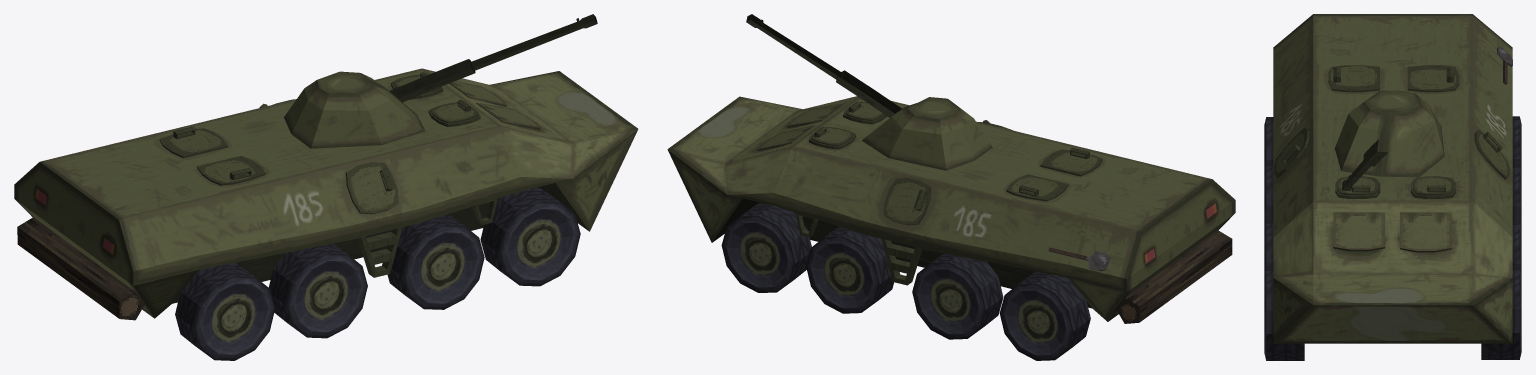
Rendered from BTR80.fbx.
The picture shows the model from 3 angles, left to right: view 1: azimuth 30°, elevation 25°; view 2: azimuth 150°, elevation 25°; view 3: azimuth 270°, elevation 25°; orthographic projection. The views are drawn at different scales.
Parts seen in each view (by area): view 1: Body, Turret, Wheel4_Right, Wheel1_Right, Wheel3_Right, Wheel2_Right, WoodLog, KPW_Barrel, WłazSmall_Right, WłazTop_Left, Ladder_Right, WłazTop_Right (+3 smaller); view 2: Body, Turret, Wheel4_Left, Wheel1Left, Wheel3_Left, Wheel2_Left, WoodLog, KPW_Barrel, WłazSmall_Left, WłazTop_Right, Ladder_Left, WłazTop_Left (+5 smaller); view 3: Body, Turret, WindowShield_Left, WindowShield_Right, Wheel1_Right, Wheel1Left, WłazTop_Left, WłazTop_Right, WłazSmall_Left, WłazSmall_Right, WladDriver_Left, KPW_Barrel (+10 smaller).
Boxes of the visible parts, box(x1,y1,x2,y2) form: Body: box(14, 68, 638, 318); Turret: box(284, 71, 425, 148); Wheel4_Right: box(175, 262, 275, 360); Wheel1_Right: box(480, 188, 580, 286); Wheel3_Right: box(268, 243, 367, 338); Wheel2_Right: box(387, 214, 484, 309); WoodLog: box(17, 217, 145, 320); KPW_Barrel: box(390, 14, 597, 102); WłazSmall_Right: box(346, 162, 398, 214); WłazTop_Left: box(159, 126, 227, 158); Ladder_Right: box(357, 227, 402, 277); WłazTop_Right: box(197, 155, 265, 185); Body: box(667, 96, 1235, 321); Turret: box(862, 97, 992, 170); Wheel4_Left: box(999, 271, 1090, 360); Wheel1Left: box(721, 203, 811, 292); Wheel3_Left: box(912, 253, 1003, 339); Wheel2_Left: box(806, 226, 893, 313); WoodLog: box(1116, 230, 1232, 323); KPW_Barrel: box(746, 14, 901, 117); WłazSmall_Left: box(883, 178, 931, 225); WłazTop_Right: box(1040, 148, 1102, 176); Ladder_Left: box(881, 239, 922, 285); WłazTop_Left: box(1006, 174, 1068, 201); Body: box(1273, 14, 1512, 343); Turret: box(1335, 90, 1444, 177); WindowShield_Left: box(1400, 212, 1451, 252); WindowShield_Right: box(1333, 212, 1384, 251); Wheel1_Right: box(1264, 267, 1304, 360); Wheel1Left: box(1481, 266, 1521, 359); WłazTop_Left: box(1407, 65, 1459, 92); WłazTop_Right: box(1328, 65, 1379, 92); WłazSmall_Left: box(1474, 130, 1509, 179); WłazSmall_Right: box(1274, 127, 1308, 177); WladDriver_Left: box(1413, 176, 1454, 195); KPW_Barrel: box(1342, 139, 1387, 190).
Size of the model in its own units: 1545 by 610 by 645.
